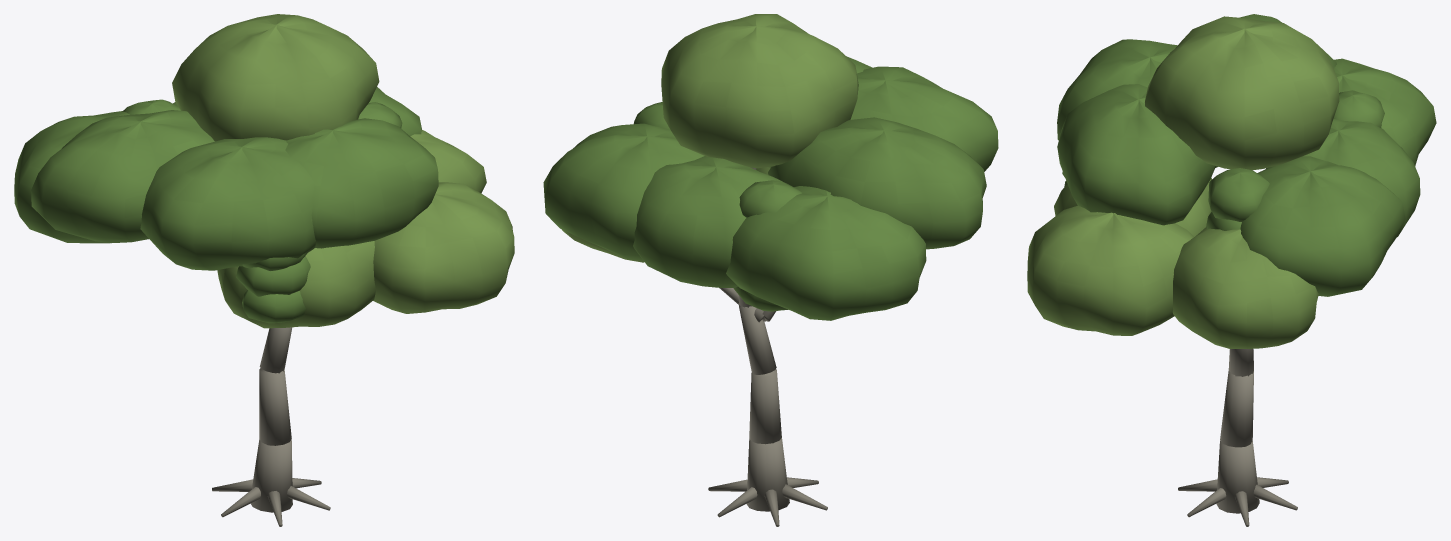
File: beech_canopy_1.glb
3 views of the same model, side by side, from view 1: azimuth 30°, elevation 25°; view 2: azimuth 150°, elevation 25°; view 3: azimuth 270°, elevation 25° (orthographic).
Visible parts, largest first — view 1: beech_canopy_1_painted_export; view 2: beech_canopy_1_painted_export; view 3: beech_canopy_1_painted_export.
Part boxes in pixels (x1,y1,x2,y2): beech_canopy_1_painted_export: [14, 14, 514, 526]; beech_canopy_1_painted_export: [543, 14, 998, 526]; beech_canopy_1_painted_export: [1027, 14, 1436, 526].
Bounding box in the file's own units: 14.85 × 15.83 × 12.22.
